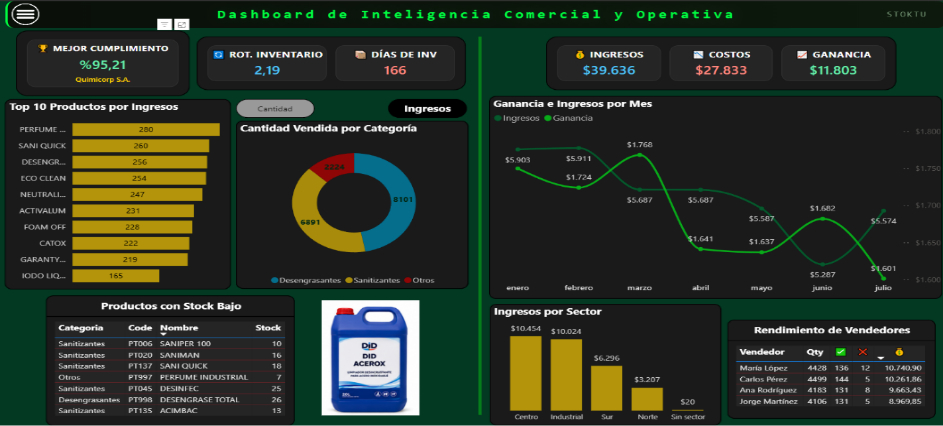

The dashboard page shown, as its layout file describes it:
{"tool":"powerbi","page":{"name":"Página 1","canvas":[1280,720],"ordinal":0},"visuals":[{"type":"htmlContent443BE3AD55E043BF878BED274D3A6855","fields":{"content":["1HTML.BannerDashboard"]},"box":[0.9,0,1279.1,46.2],"z":0},{"type":"barChart","title":"Productos con mas Ingresos","fields":{"Category":["productos.nombre"],"Y":["1Indicadores.IndIngresosTotales"]},"box":[0,158.1,304.6,312.3],"z":1000},{"type":"htmlContent443BE3AD55E043BF878BED274D3A6855","fields":{"content":["1HTML.ComparativaIngCostGanancia"]},"box":[14.5,49.2,196.6,110.8],"z":2000},{"type":"tableEx","fields":{"Values":["productos.categoria","productos.nombre","Sum(productos.stock_actual)"]},"box":[0,485.8,367.2,234.2],"z":3000},{"type":"shape","box":[824.1,289.2,13.5,62.7],"z":5000},{"type":"image","box":[0,0,55.6,46.2],"z":7000},{"type":"donutChart","title":"Categoria con mas Ventas","fields":{"Category":["productos.categoria"],"Y":["CountNonNull(ventas.numero_pedido)"]},"box":[320,158.1,266,312.3],"z":9000},{"type":"htmlContent443BE3AD55E043BF878BED274D3A6855","fields":{"content":["1HTML.IngCostsGanancia"]},"box":[237.1,60.5,372.1,87.3],"z":9002},{"type":"tableEx","fields":{"Values":["users.name","Sum(ventas.cantidad)","1Medidas.PedidosCompletados","1Medidas.PedidosCancelados","1Indicadores.IndIngresosTotales"]},"box":[374.1,486.2,350.3,132],"z":9003}]}

Visuals, with their boxes on the page's 1280x720 design canvas (x1, y1, x2, y2). These are canvas units, not pixel positions in the 943x426 screenshot, which may show the page scaled, cropped or inside an application window:
htmlContent443BE3AD55E043BF878BED274D3A6855 - 1HTML.BannerDashboard: {"x1": 1, "y1": 0, "x2": 1280, "y2": 46}
"Productos con mas Ingresos" barChart: {"x1": 0, "y1": 158, "x2": 305, "y2": 470}
htmlContent443BE3AD55E043BF878BED274D3A6855 - 1HTML.ComparativaIngCostGanancia: {"x1": 14, "y1": 49, "x2": 211, "y2": 160}
tableEx - productos.categoria x productos.nombre: {"x1": 0, "y1": 486, "x2": 367, "y2": 720}
shape: {"x1": 824, "y1": 289, "x2": 838, "y2": 352}
image: {"x1": 0, "y1": 0, "x2": 56, "y2": 46}
"Categoria con mas Ventas" donutChart: {"x1": 320, "y1": 158, "x2": 586, "y2": 470}
htmlContent443BE3AD55E043BF878BED274D3A6855 - 1HTML.IngCostsGanancia: {"x1": 237, "y1": 60, "x2": 609, "y2": 148}
tableEx - users.name x Sum(ventas.cantidad): {"x1": 374, "y1": 486, "x2": 724, "y2": 618}
